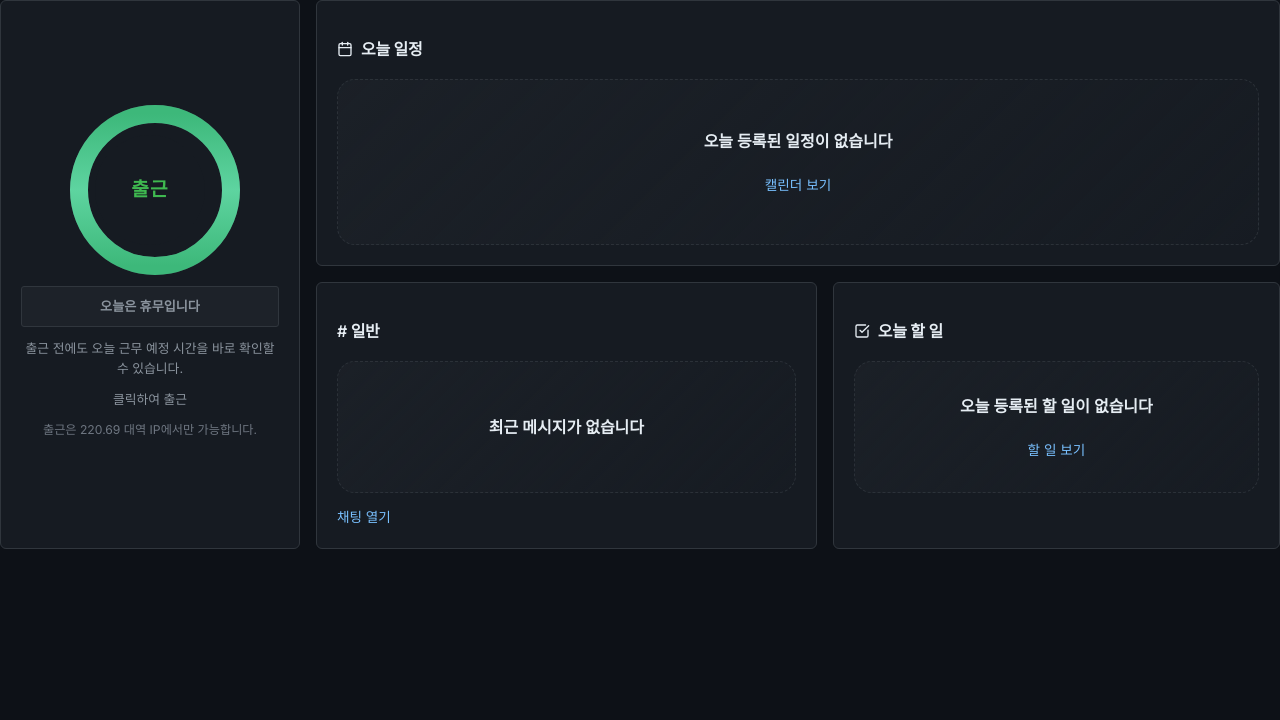
Scenario: Dashboard 페이지 › 근무 일정이 없는 날에는 출근 버튼 클릭 시 경고 모달이 열린다
Click the button with aria-label "출근하기": (150, 190) [70, 110, 230, 270]
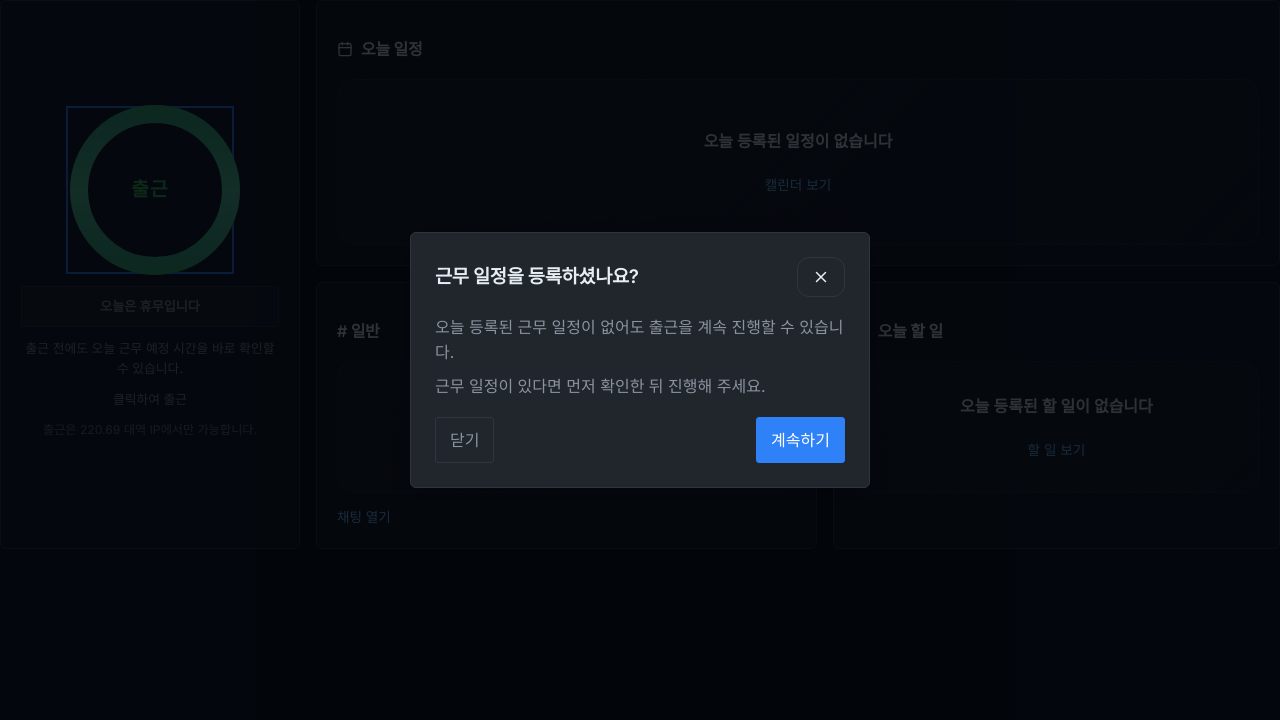
Now the heading "근무 일정을 등록하셨나요?" is shown, box [435, 263, 639, 291]
Now the button "계속하기" is shown, box [756, 417, 845, 463]
Now the button named "닫기" is shown, box [797, 257, 845, 297]
